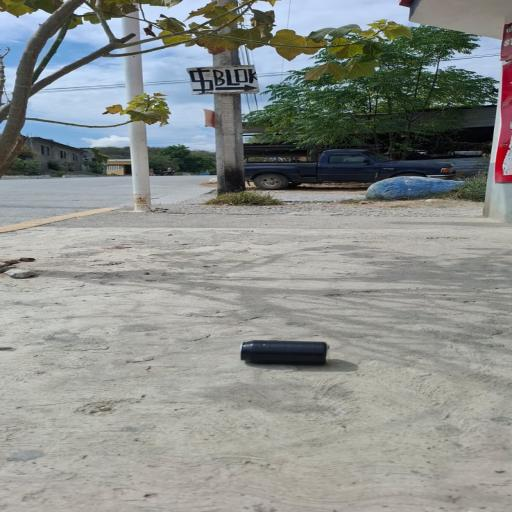LATA: (237, 330, 339, 379)
